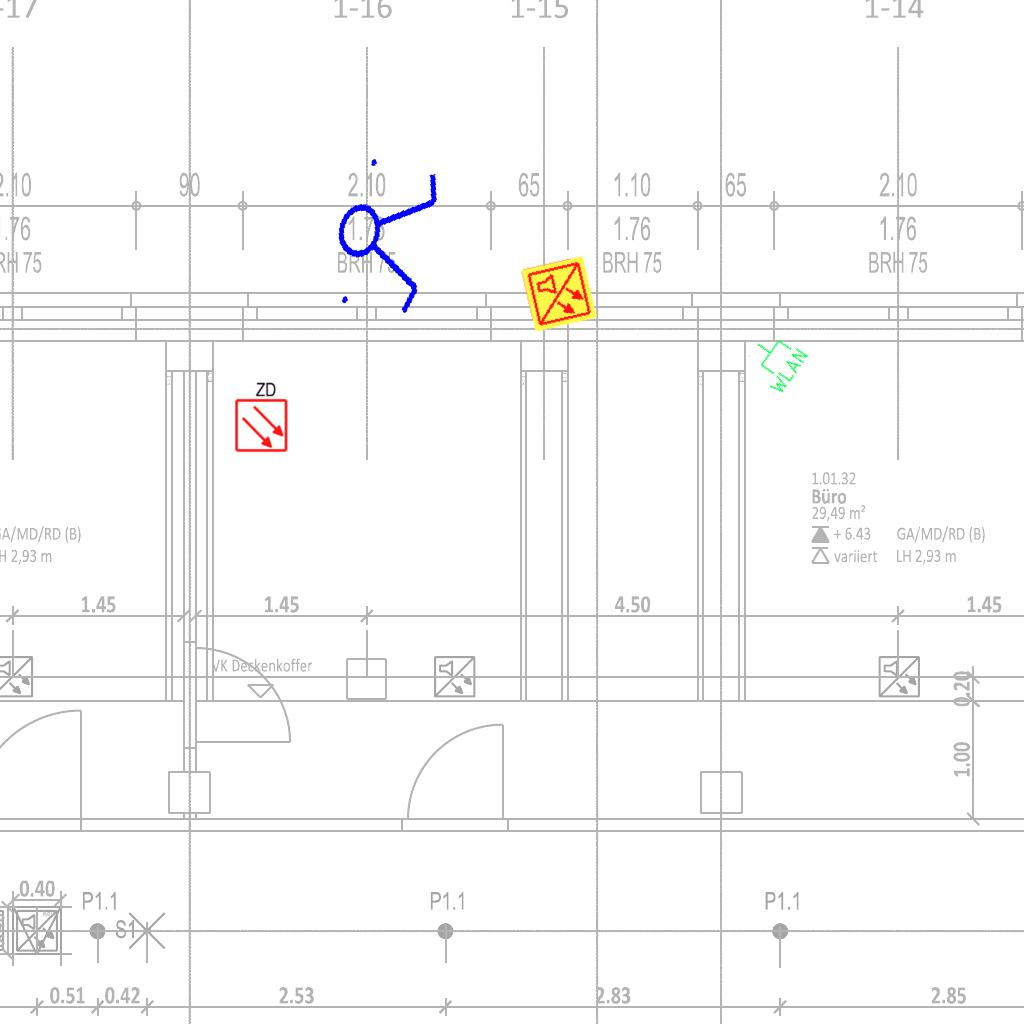OKW_Multisensormelder_(Kombination_optischer_Rauch-Kahlenmonoxid_Waerme-Melder): (519, 254, 599, 334)
Serienschalter: (320, 142, 450, 328)
WLAN: (738, 325, 812, 399)
ZD_Melder_in_Zwischendecke_mit_Revisionsoeffnung_mind_40_x_40_cm: (232, 379, 289, 453)
